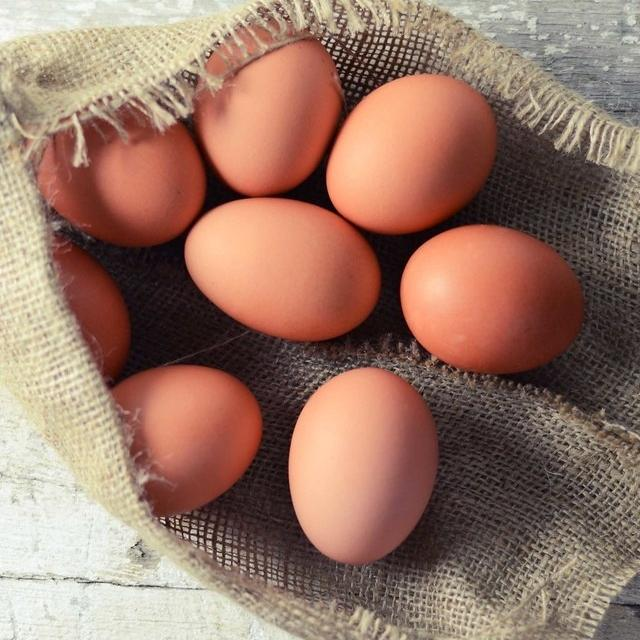egg: (287, 366, 438, 565), (183, 196, 381, 342), (325, 72, 498, 234), (399, 223, 584, 374), (192, 37, 343, 196), (35, 107, 206, 247), (108, 363, 262, 517), (46, 231, 131, 382)
